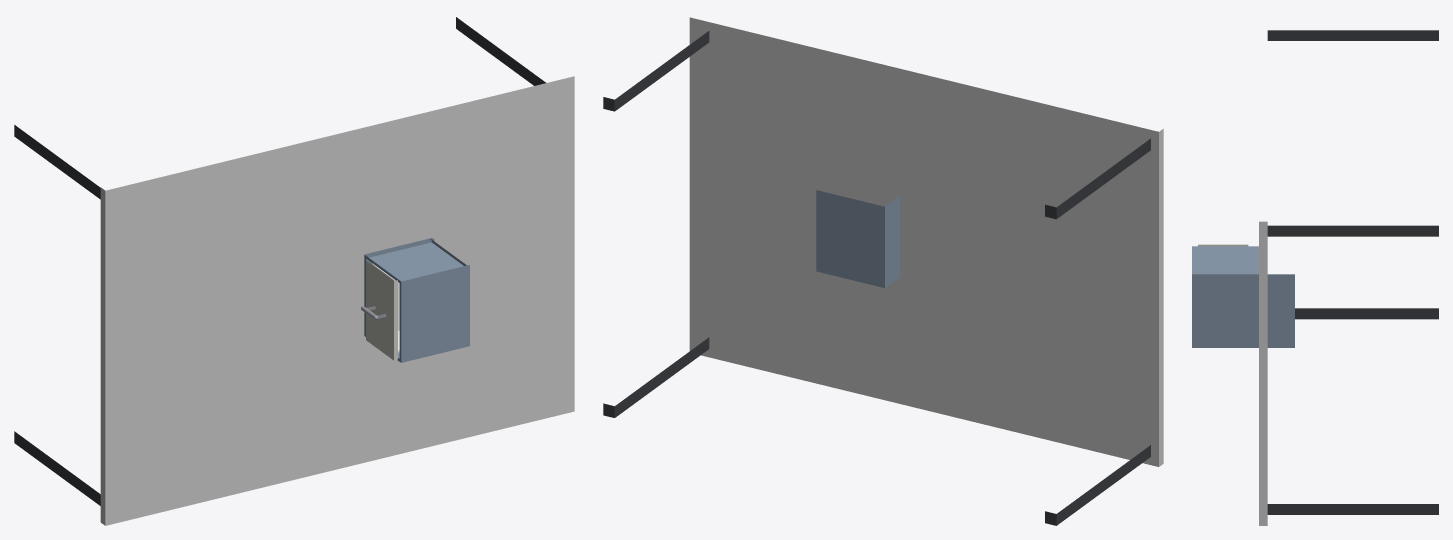
File: t2_88bbf8937b.glb
3 renders of one model, left to right at view 1: azimuth 30°, elevation 25°; view 2: azimuth 150°, elevation 25°; view 3: azimuth 270°, elevation 25°, orthographic. The views are drawn at different scales.
Visible parts, largest first — view 1: s0, s1, s2; view 2: s0, s1; view 3: s0, s1.
Boxes of the visible parts, x1,y1,x2,y2 form: s0: [14, 17, 574, 525]; s1: [364, 237, 469, 362]; s2: [361, 261, 399, 360]; s0: [603, 17, 1163, 525]; s1: [816, 190, 899, 287]; s0: [1259, 30, 1438, 525]; s1: [1192, 246, 1294, 347].
Size of the model in its own units: 2.05 by 1.4 by 1.03.
